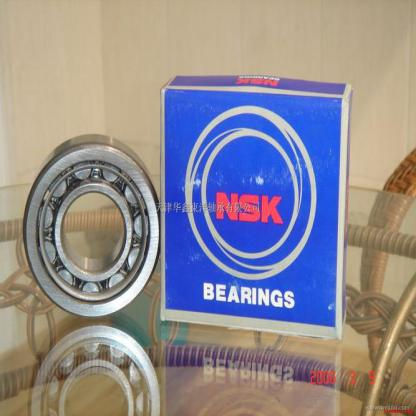FOD: (16, 128, 166, 325)
